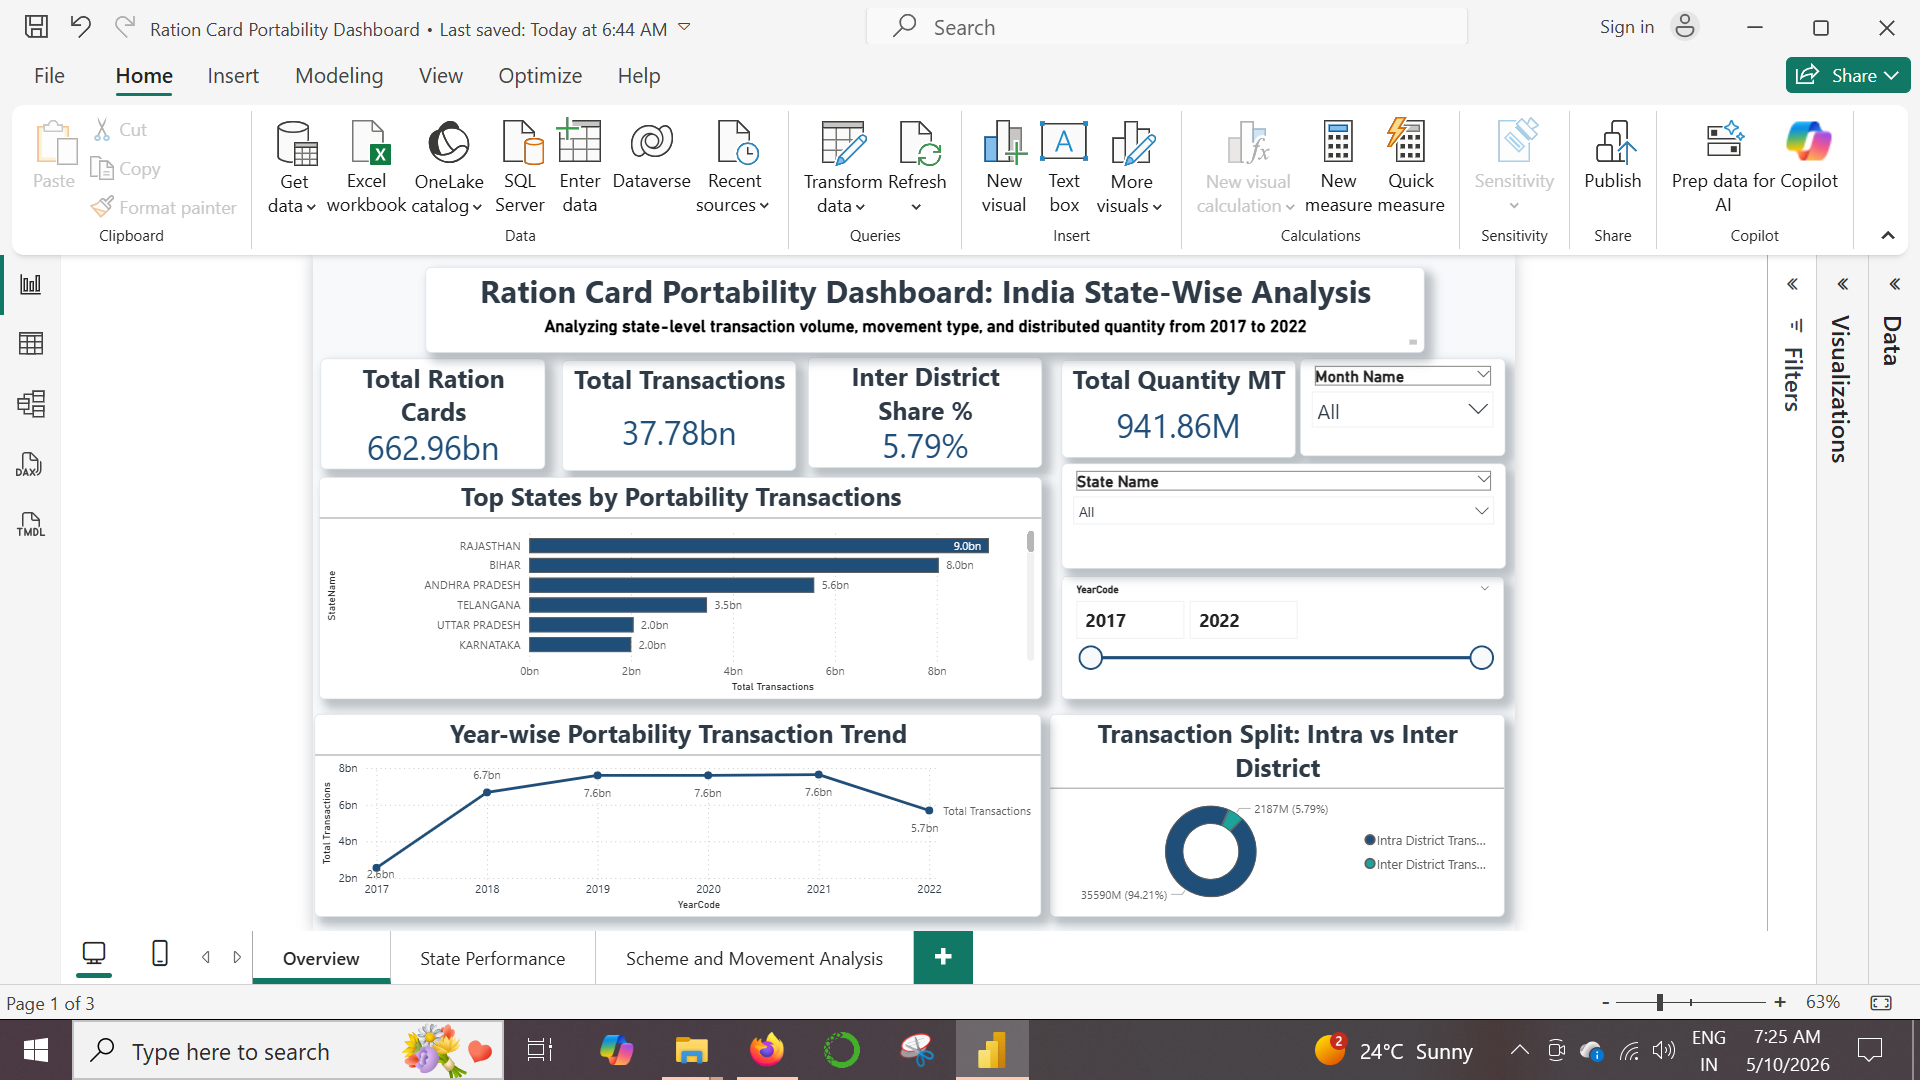

Layout of this report page (visuals, bound fields, positions):
{"tool":"powerbi","page":{"name":"Overview","canvas":[1280,720],"ordinal":0},"visuals":[{"type":"card","title":"Total Ration Cards","fields":{"Values":["Ration_Card_Portability.Total Ration Cards"]},"box":[6.5,104.1,239.1,104.1],"z":0},{"type":"card","title":"Total Transactions","fields":{"Values":["Ration_Card_Portability.Total Transactions"]},"box":[265.1,104.1,248.9,104.1],"z":1000},{"type":"card","title":"Total Quantity MT","fields":{"Values":["Ration_Card_Portability.Total Quantity MT"]},"box":[797,104.1,248.9,104.1],"z":2000},{"type":"card","title":"Inter District Share %","fields":{"Values":["Ration_Card_Portability.Inter District Share %"]},"box":[527,104.1,248.9,104.1],"z":3000},{"type":"barChart","title":"Top States by Portability Transactions","fields":{"Y":["Ration_Card_Portability.Total Transactions"],"Category":["Dim_State.StateName"]},"box":[6.5,222.8,769.4,250.5],"z":4000},{"type":"donutChart","title":"Transaction Split: Intra vs Inter District","fields":{"Y":["Ration_Card_Portability.Intra District Transactions","Ration_Card_Portability.Inter District Transactions"]},"box":[784,489.6,484.7,216.3],"z":5000},{"type":"slicer","fields":{"Values":["Ration_Card_Portability.YearCode"]},"box":[797.2,341.9,418.6,131],"z":6000},{"type":"slicer","fields":{"Values":["Dim_Date.Month Name"]},"box":[1050.7,104.1,219.6,104.1],"z":7000},{"type":"slicer","fields":{"Values":["Dim_State.StateName"]},"box":[797,222.8,473.3,112.2],"z":8000},{"type":"lineChart","title":"Year-wise Portability Transaction Trend","fields":{"Category":["Ration_Card_Portability.YearCode Hierarchy.YearCode"],"Y":["Ration_Card_Portability.Total Transactions"]},"box":[1.6,489.6,774.2,216.3],"z":9000},{"type":"textbox","title":"Ration Card Portability Dashboard: India State-Wise Analysis","box":[120.4,13,1063.8,74.8],"z":10000}]}

Visuals, with their boxes on the page's 1280x720 design canvas (x1, y1, x2, y2). These are canvas units, not pixel positions in the 1920x1080 screenshot, which may show the page scaled, cropped or inside an application window:
"Total Ration Cards" card: crop(6, 104, 246, 208)
"Total Transactions" card: crop(265, 104, 514, 208)
"Total Quantity MT" card: crop(797, 104, 1046, 208)
"Inter District Share %" card: crop(527, 104, 776, 208)
"Top States by Portability Transactions" barChart: crop(6, 223, 776, 473)
"Transaction Split: Intra vs Inter District" donutChart: crop(784, 490, 1269, 706)
slicer - Ration_Card_Portability.YearCode: crop(797, 342, 1216, 473)
slicer - Dim_Date.Month Name: crop(1051, 104, 1270, 208)
slicer - Dim_State.StateName: crop(797, 223, 1270, 335)
"Year-wise Portability Transaction Trend" lineChart: crop(2, 490, 776, 706)
"Ration Card Portability Dashboard: India State-Wise Analysis" textbox: crop(120, 13, 1184, 88)
